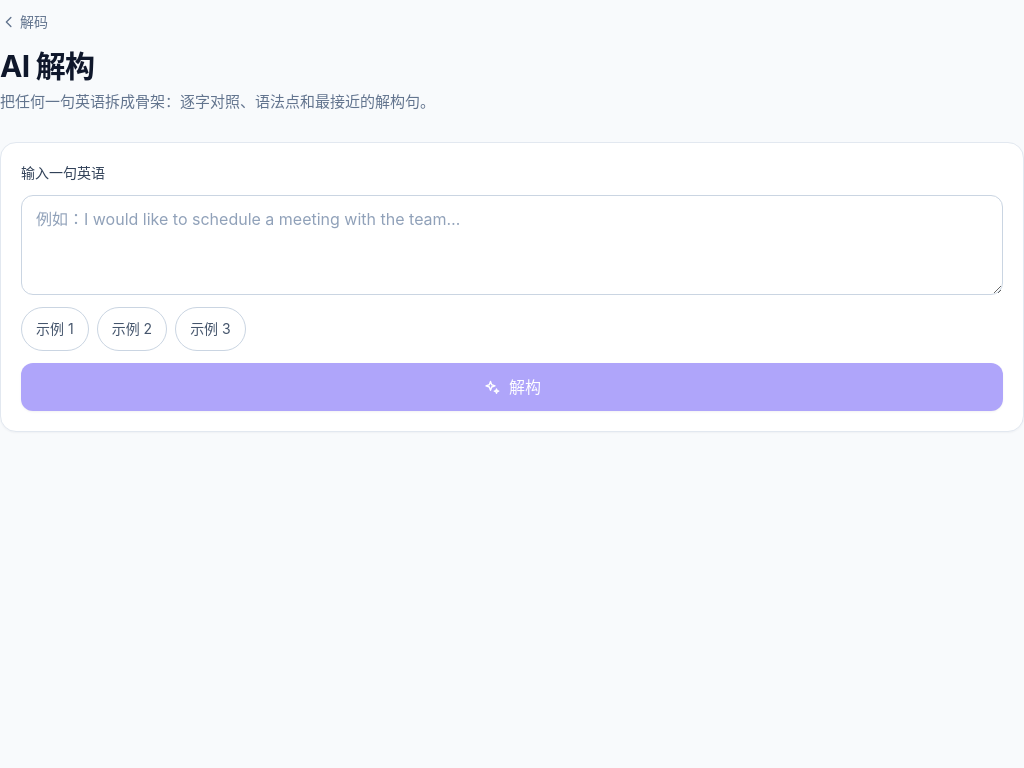
it: AnalyzePage › saves the generated frame as the user's frame
In the text box labelled "输入一句英语": (512, 245) [21,195,1003,295], type "I must give it to him."
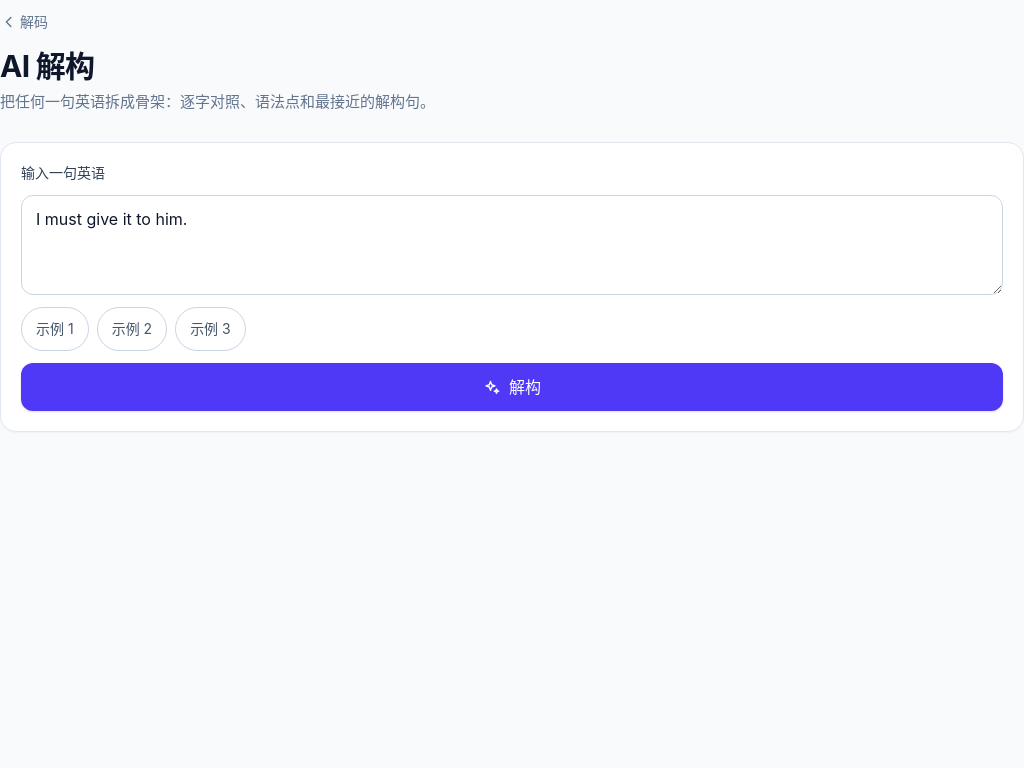
Click the button "解构": (512, 387) [21,363,1003,411]
(page scrolled)
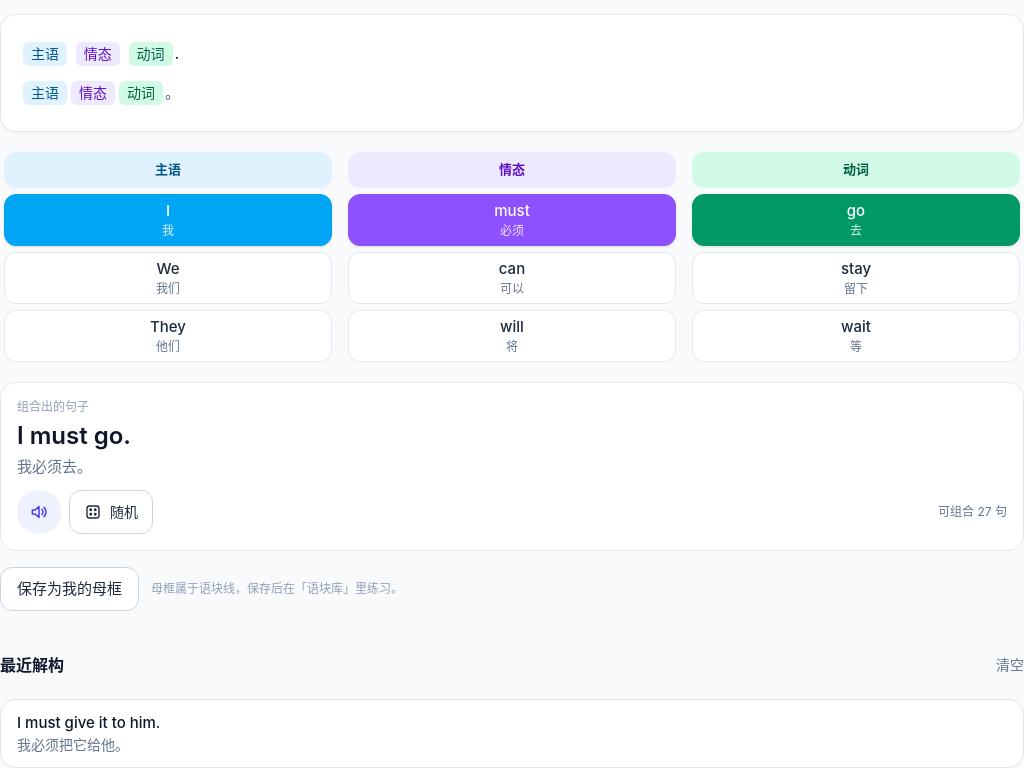
Click the button "保存为我的母框": (70, 589) [0,567,139,611]
(page scrolled)
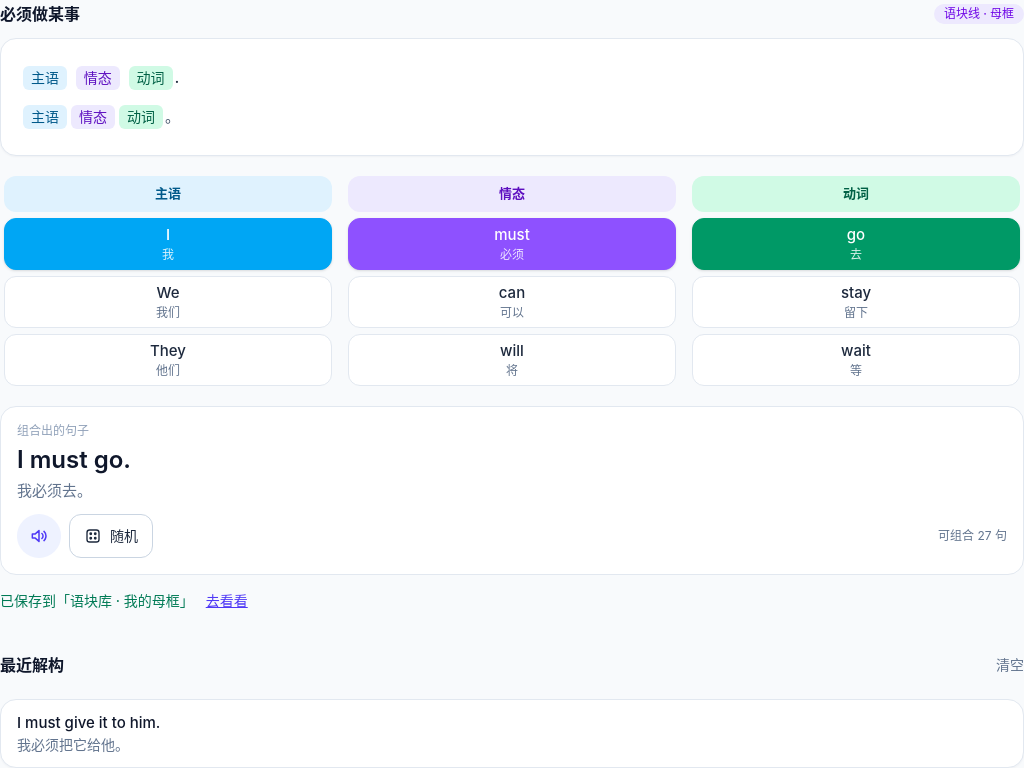
Expected: the text "已保存到「语块库 · 我的母框」" is shown, [0,592,194,609]
